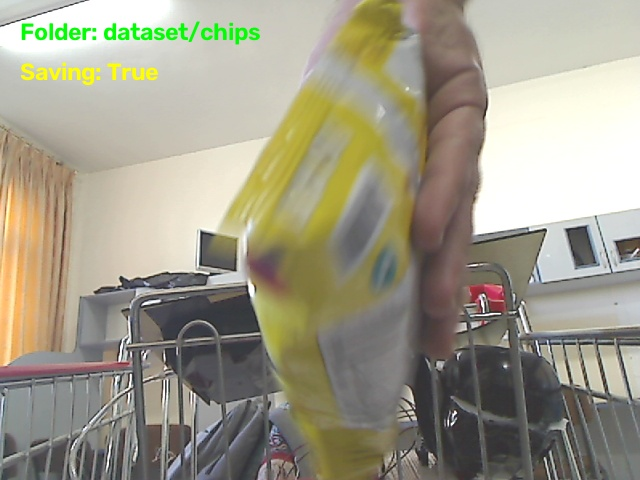chips: (221, 0, 425, 479)
